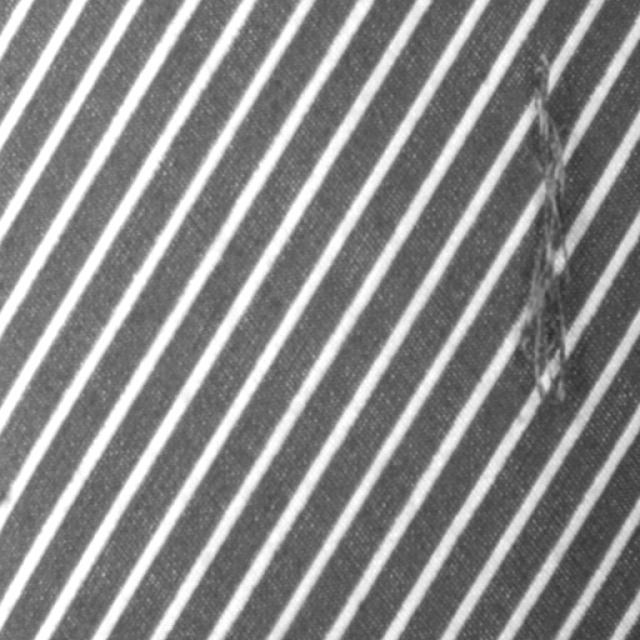Foreign-Body-Defect: (519, 42, 571, 400)
